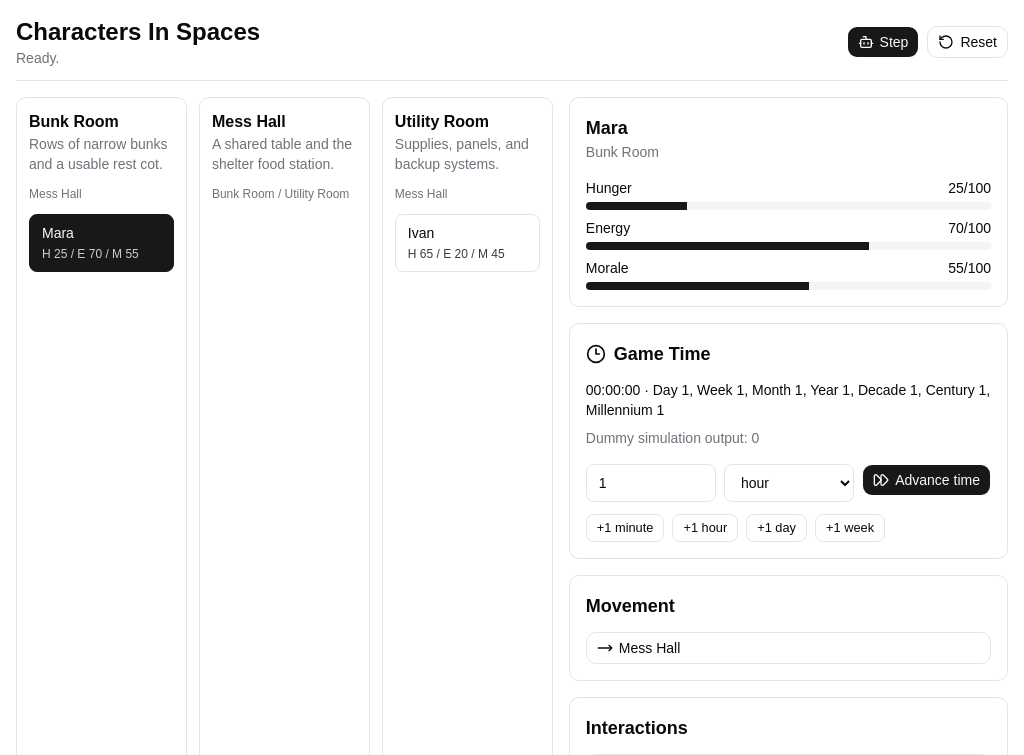
Test: characters in spaces debug view › advances the game clock and updates the connected demo value
The width and height of the screenshot is (1024, 755).
Expected: the text "Dummy simulation output: 0" is shown, [586, 430, 759, 446]
What coordinates should you click on to do the following:
click the button "+1 hour"
I would click on:
 (705, 528)
Its box is [672, 514, 738, 542].
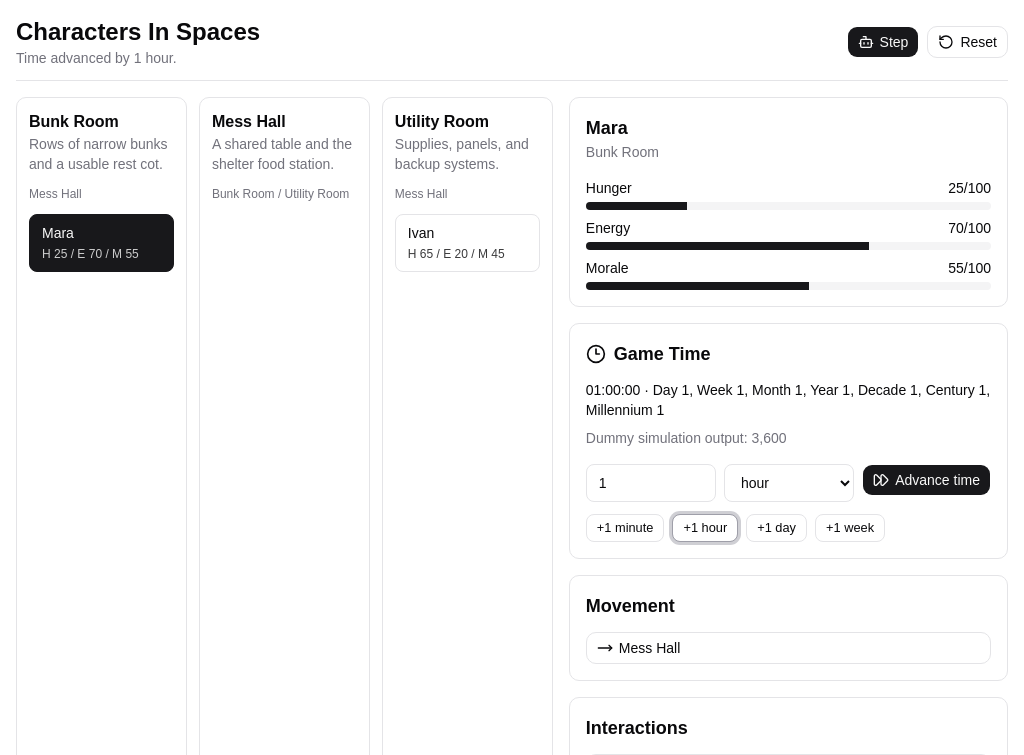
Expected: the text "01:00:00" is shown, [586, 382, 990, 418]
Expected: the text "Dummy simulation output: 3,600" is shown, [586, 430, 787, 446]
Expected: the text "Time advanced by 1 hour." is shown, [16, 50, 177, 66]
